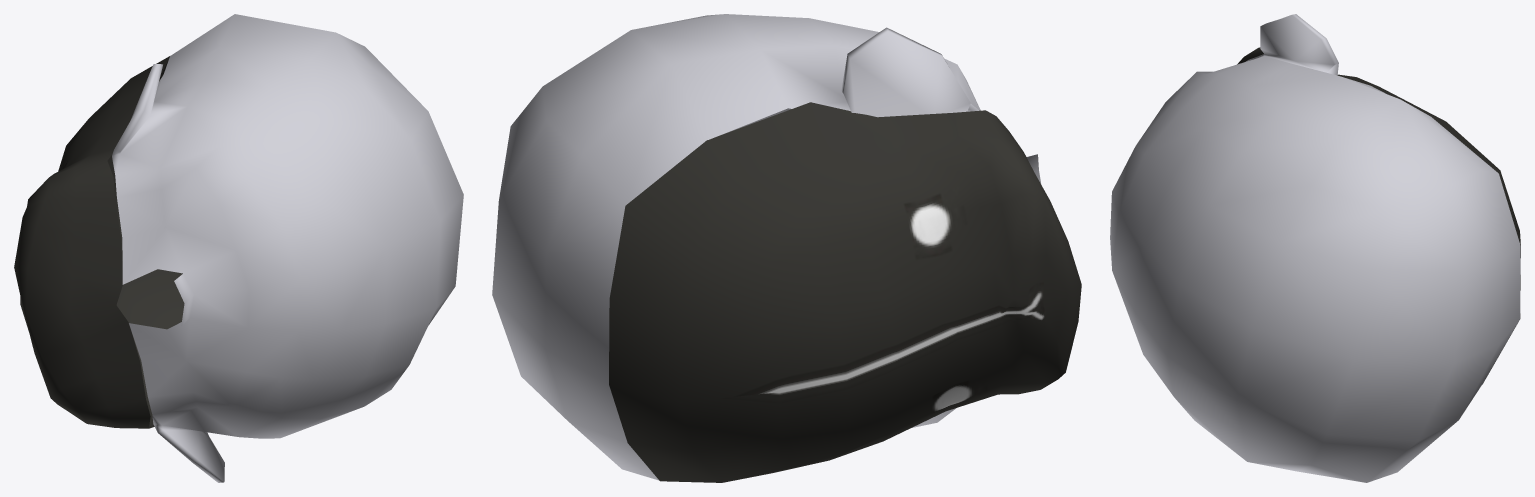
Rendered from basicDollHead (2).fbx.
The picture shows the model from 3 angles, left to right: view 1: azimuth 30°, elevation 25°; view 2: azimuth 150°, elevation 25°; view 3: azimuth 270°, elevation 25°; orthographic projection. The views are drawn at different scales.
Parts seen in each view (by area): view 1: Body, face; view 2: face, Body; view 3: Body, face.
Boxes of the visible parts, x1,y1,x2,y2 form: Body: [112, 14, 463, 482]; face: [14, 56, 184, 428]; face: [609, 102, 1081, 482]; Body: [492, 14, 1041, 480]; Body: [1110, 14, 1520, 482]; face: [1237, 47, 1520, 384].
Size of the model in its own units: 0.3386 by 0.2867 by 0.2741.
2 materials, 2 textured.
